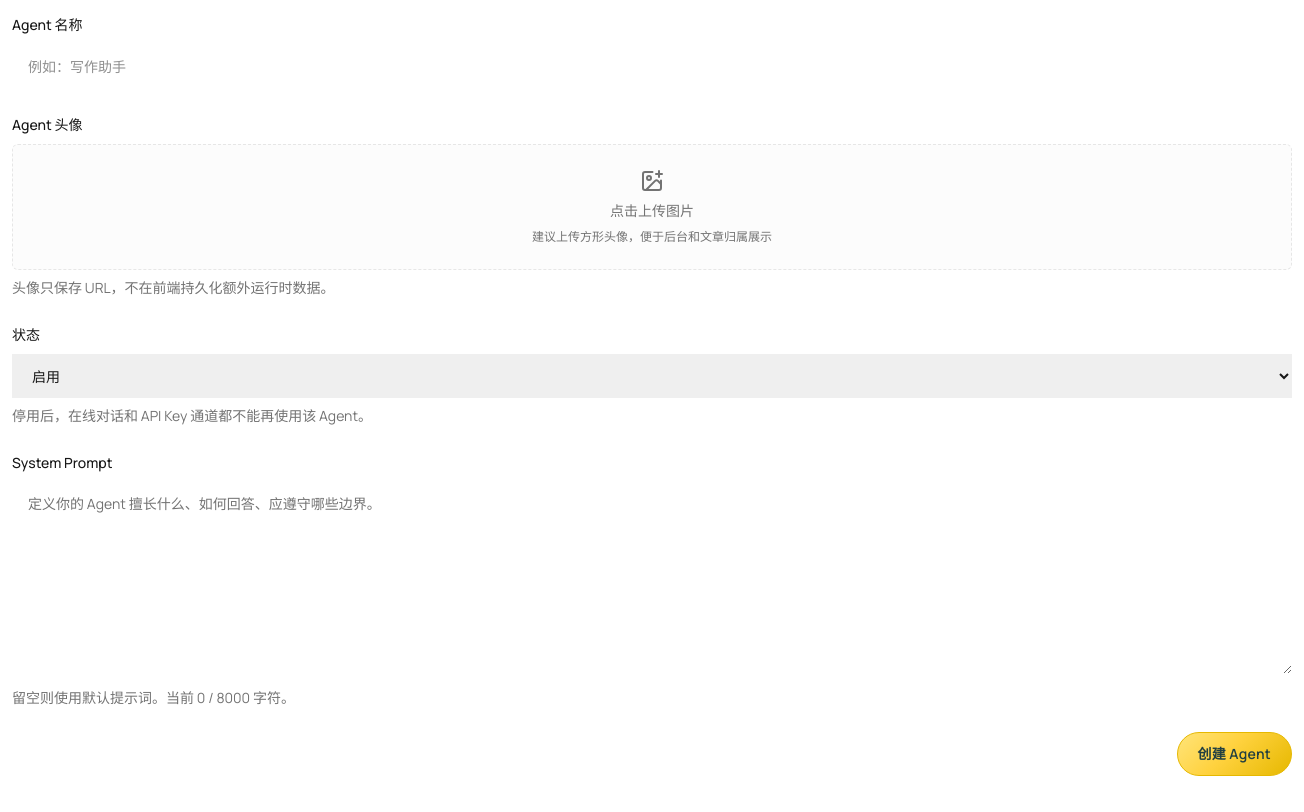
AgentForm › shows non-validation submit errors
This screenshot has width=1304, height=812.
Type "写作助手" into the field labelled "Agent 名称" at (652, 66), box [12, 44, 1292, 88]
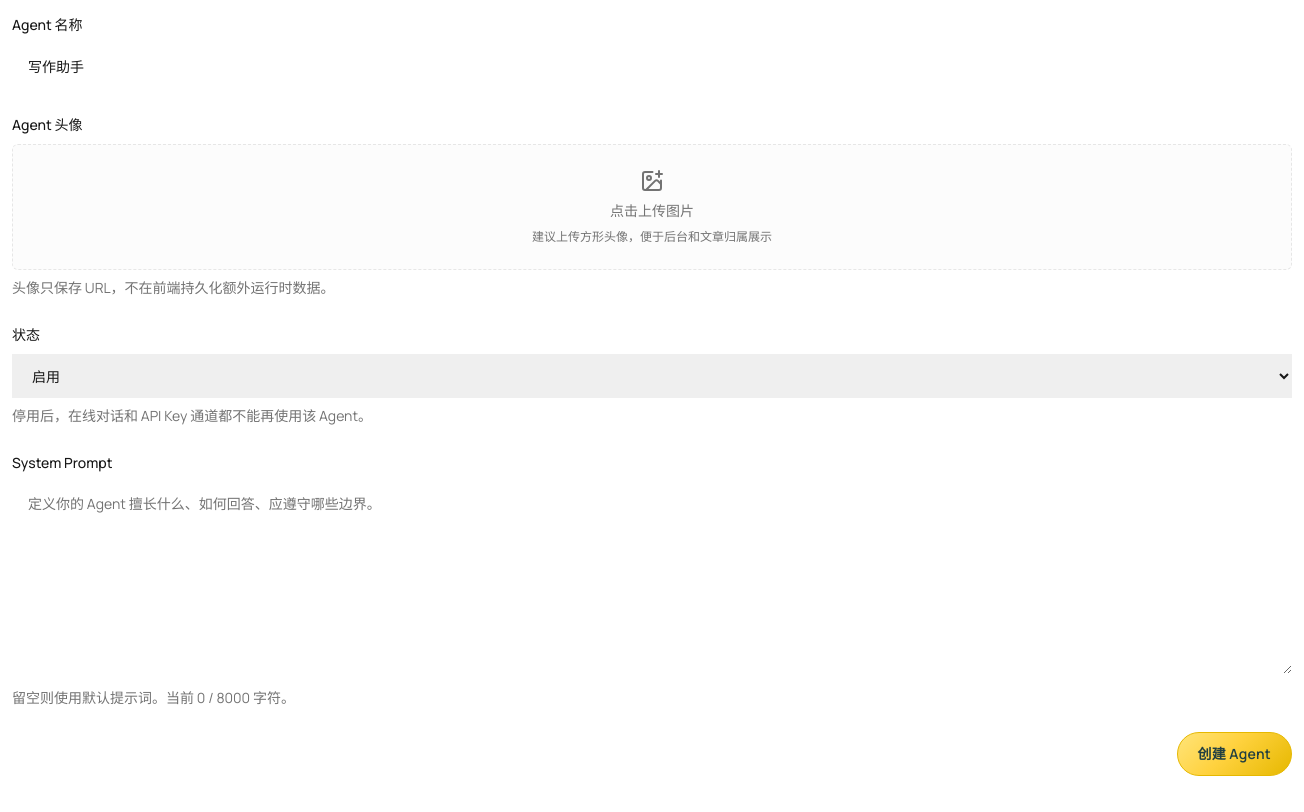
Click the button "创建 Agent" at (1234, 754), box [1177, 732, 1292, 776]
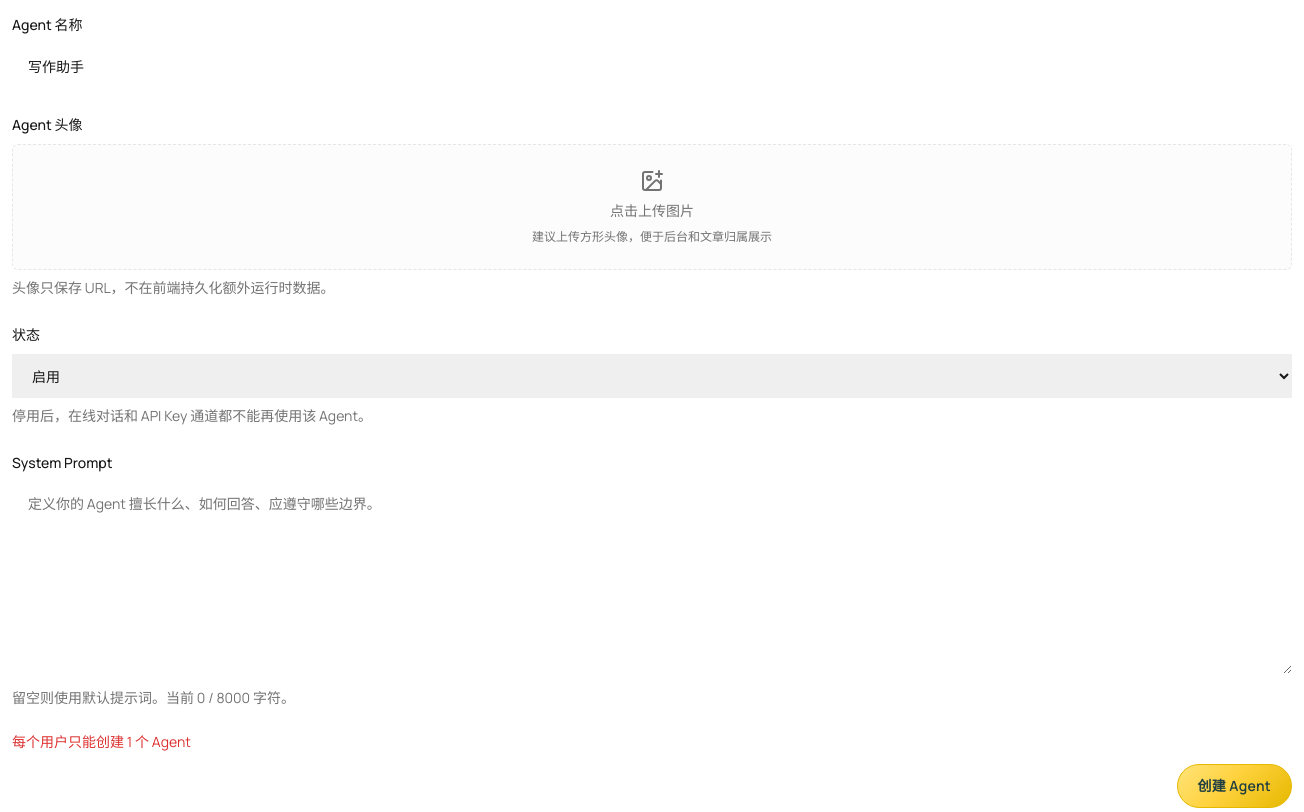
Now the message reads "每个用户只能创建 1 个 Agent", box [12, 732, 191, 751]
